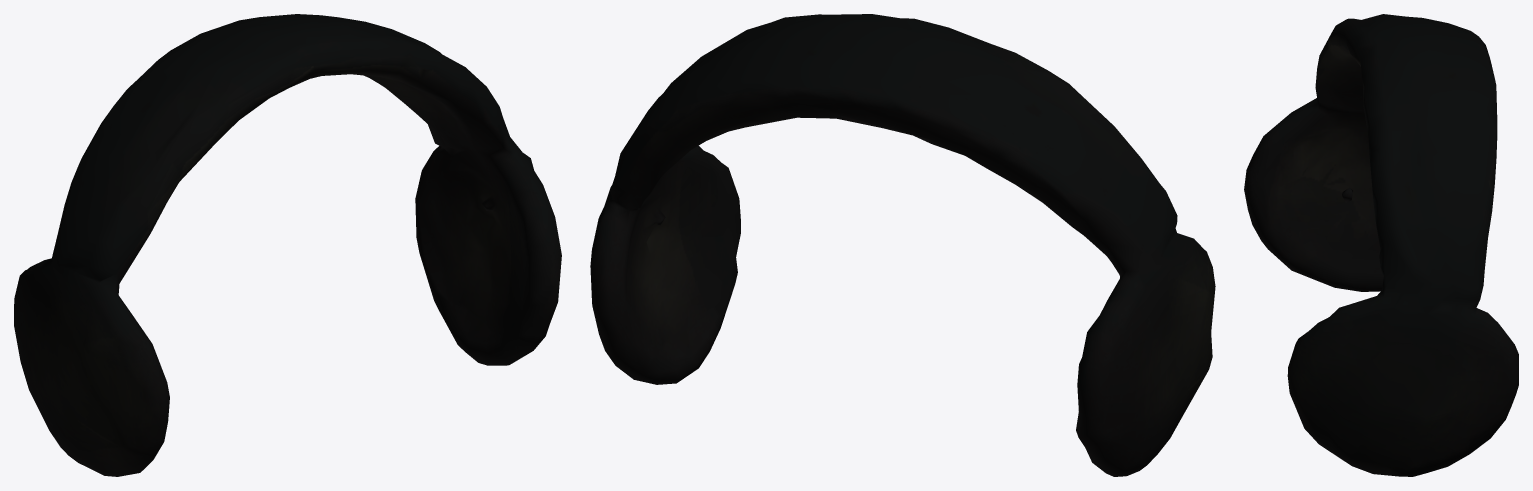
Rendered from black headphones.glb.
3 views of the same model, side by side, from view 1: azimuth 30°, elevation 25°; view 2: azimuth 150°, elevation 25°; view 3: azimuth 270°, elevation 25° (orthographic). The views are drawn at different scales.
Parts seen in each view (by area): view 1: headphones_black.001; view 2: headphones_black.001; view 3: headphones_black.001.
Part boxes in pixels (left/top/right/bottom): headphones_black.001: left=14, top=14, right=561, bottom=476; headphones_black.001: left=590, top=14, right=1215, bottom=476; headphones_black.001: left=1244, top=14, right=1518, bottom=476.
Size of the model in its own units: 0.382 by 0.2792 by 0.2009.
1 material, 1 textured.
